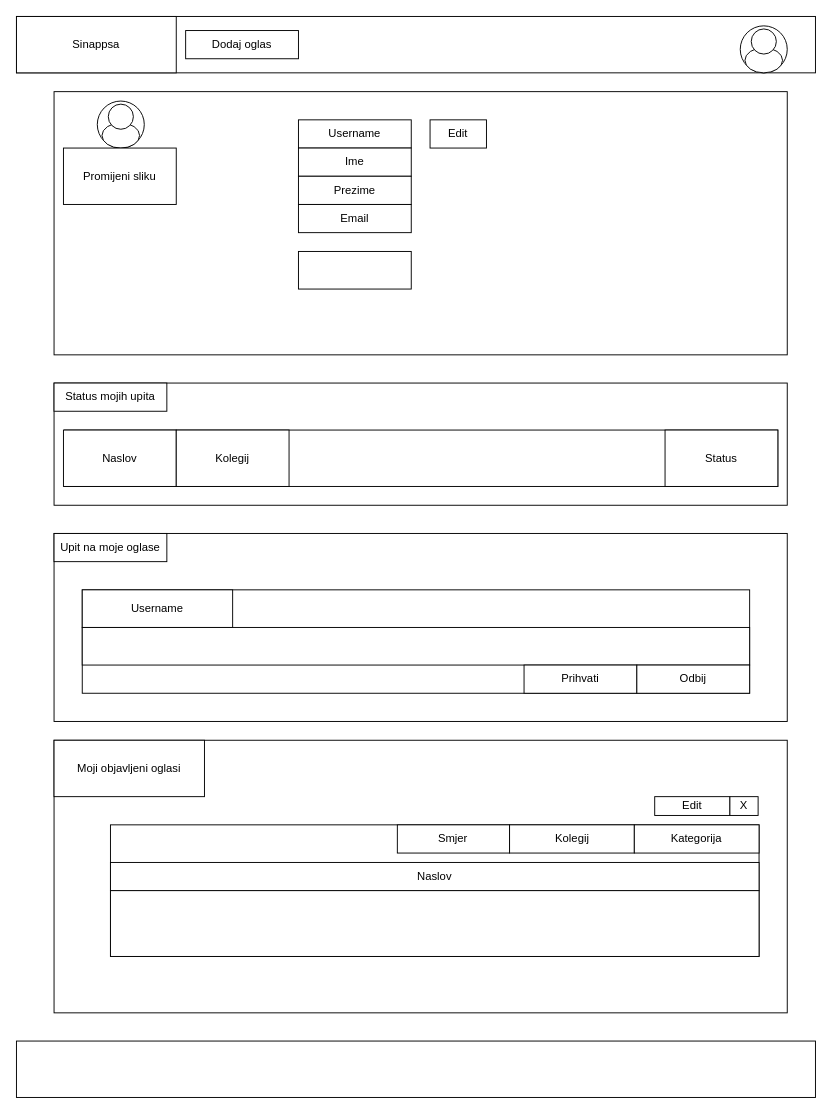
Some shapes in this 832 by 1114 pixel diagram are drawn without their labels. The centre of each missing label's shape, as x and y in pixels:
"Change password" goes at (x=354, y=270).
"Footer" goes at (x=415, y=1068).
"opis" goes at (x=434, y=923).
"Tekst" goes at (x=415, y=646).
